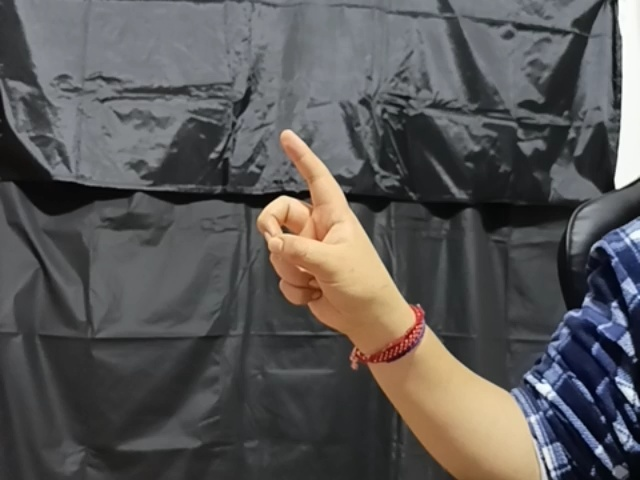D: (257, 126, 410, 330)
